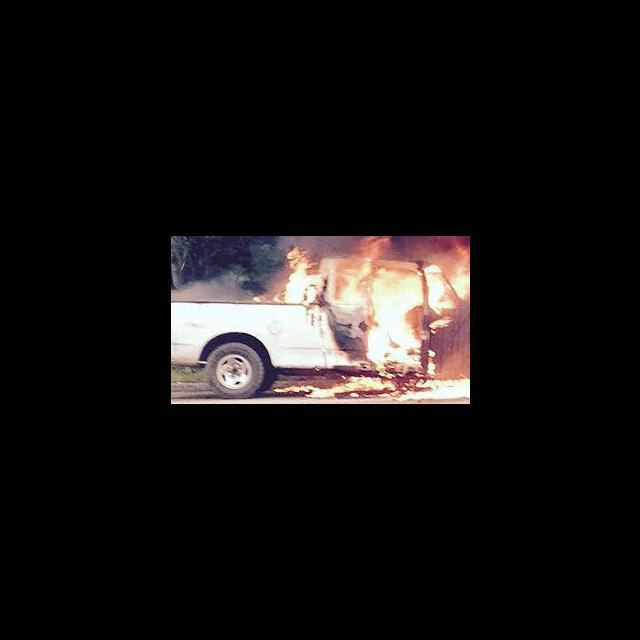Fire: (270, 237, 468, 402)
